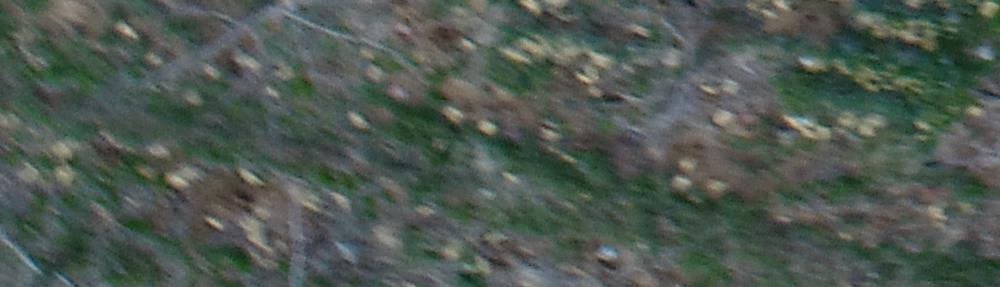apple: (75, 10, 433, 109)
